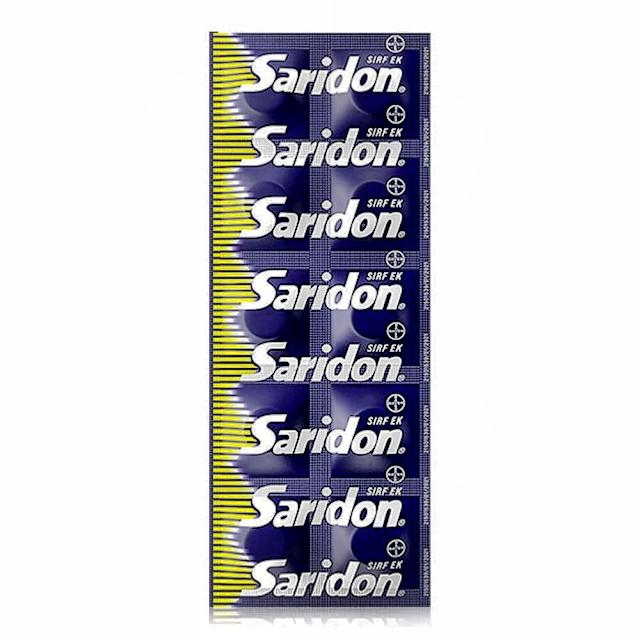Saridon: (213, 31, 429, 603)
